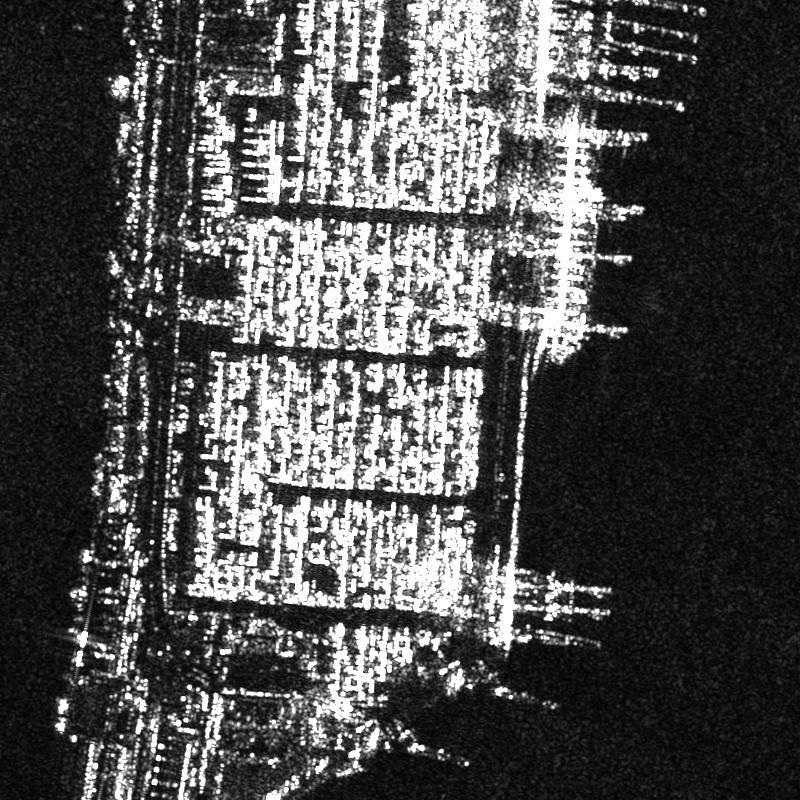ship: (537, 106, 607, 363)
